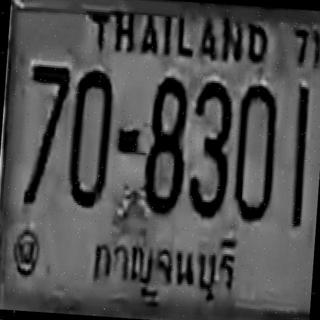N00: (231, 82, 280, 224), (66, 67, 114, 207)
N01: (288, 85, 311, 220)
N03: (186, 79, 234, 217)
N07: (22, 62, 70, 204)
N08: (140, 74, 189, 214)
P17: (81, 224, 248, 307)
